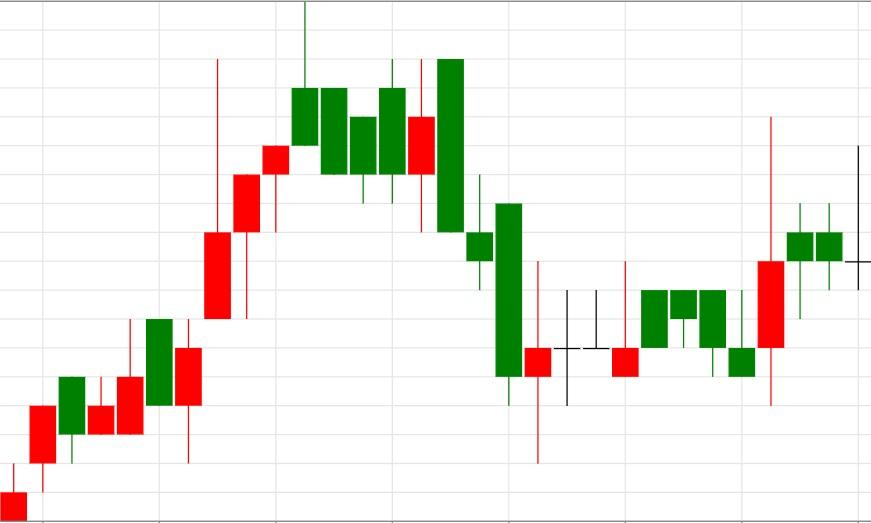bearish_engulfing_fall: (174, 2, 465, 465)
inverse_hammer_rise: (436, 58, 640, 465)
